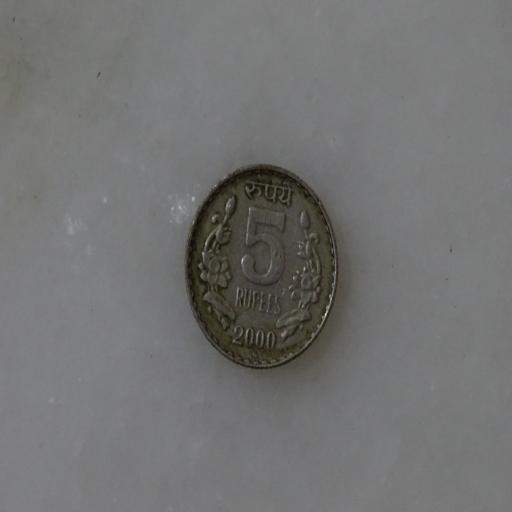rupee5: (184, 164, 338, 369)
